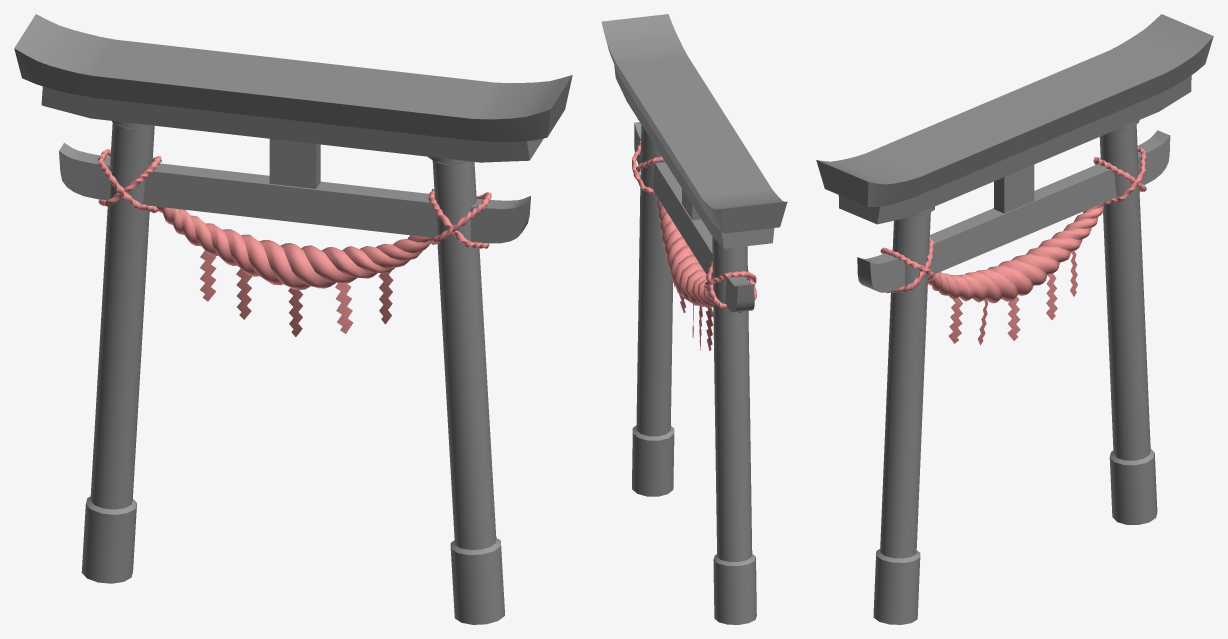
File: SM_ENV_KNVLLG03_AreaB_BuildingAb.gltf
3 renders of one model, left to right at view 1: azimuth 30°, elevation 25°; view 2: azimuth 150°, elevation 25°; view 3: azimuth 270°, elevation 25°, orthographic. The views are drawn at different scales.
Parts seen in each view (by area): view 1: SM_ENV_KNVLLG03_AreaB_BuildingAb; view 2: SM_ENV_KNVLLG03_AreaB_BuildingAb; view 3: SM_ENV_KNVLLG03_AreaB_BuildingAb.
Part boxes in pixels (x1,y1,x2,y2): SM_ENV_KNVLLG03_AreaB_BuildingAb: (14,14,572,624); SM_ENV_KNVLLG03_AreaB_BuildingAb: (601,14,787,624); SM_ENV_KNVLLG03_AreaB_BuildingAb: (816,14,1213,624).
Size of the model in its own units: 8.81 by 11.45 by 8.81.
